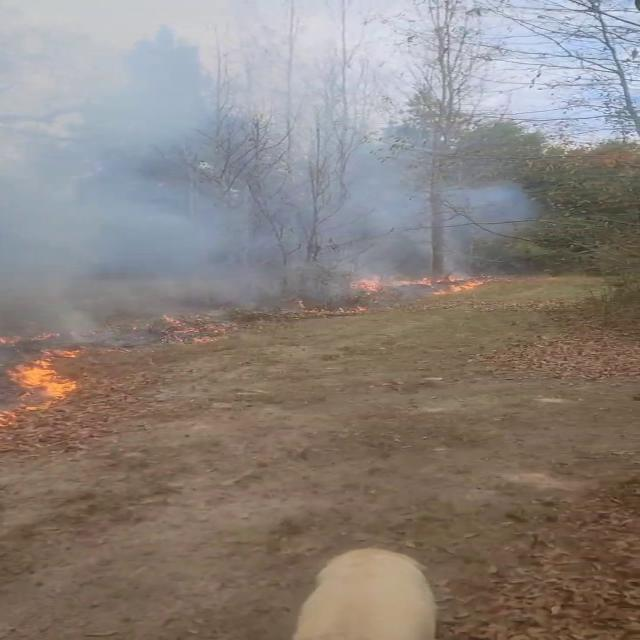Fire: (1, 326, 91, 439), (334, 264, 487, 297)
Smoke: (1, 0, 544, 332)
